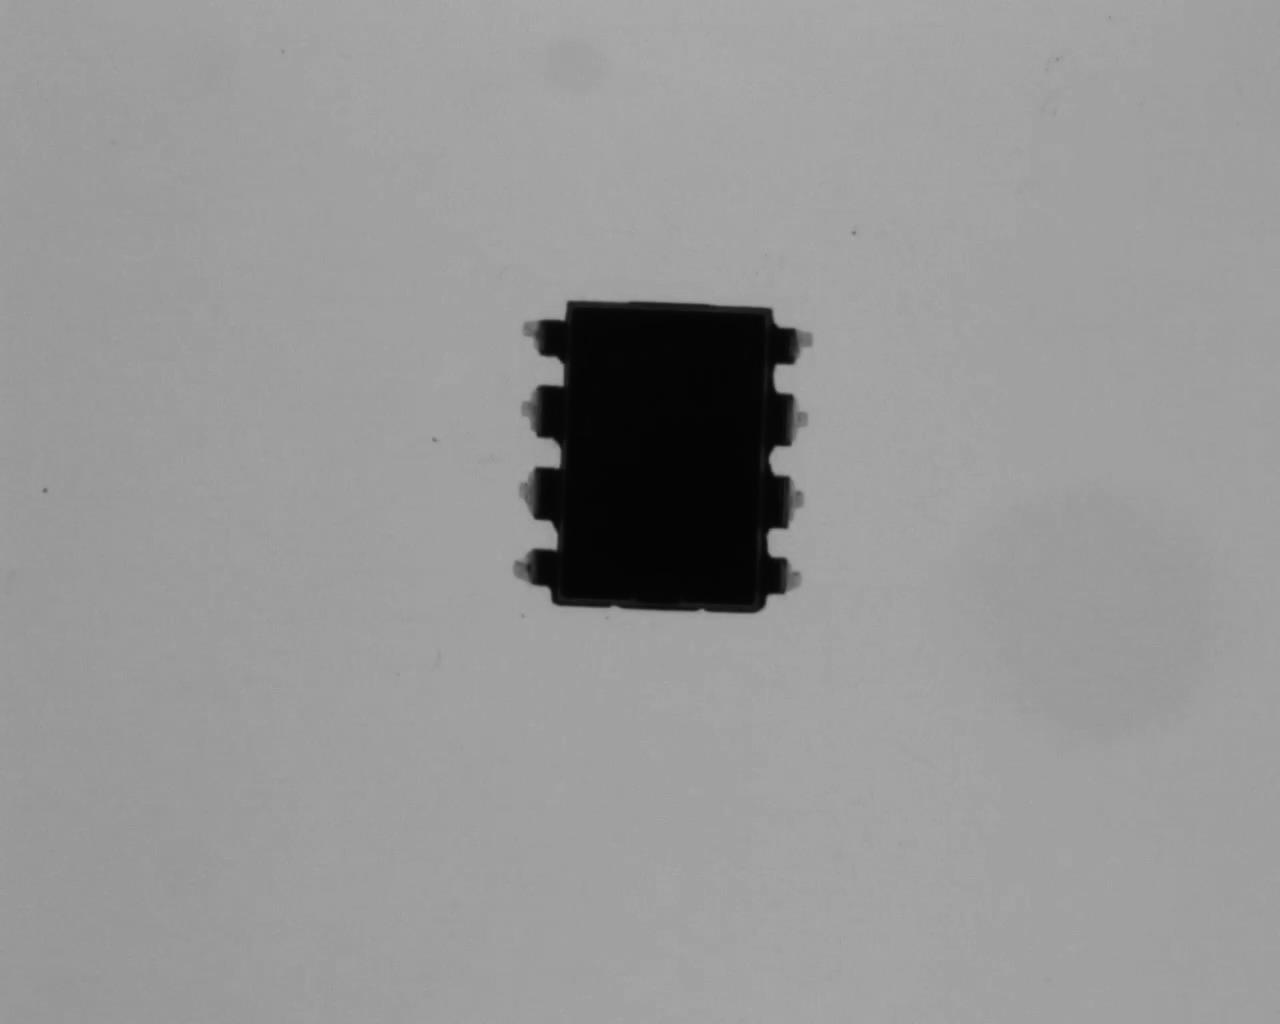Leg: (511, 462, 566, 530), (512, 380, 567, 441), (508, 311, 571, 363), (768, 388, 815, 455), (766, 471, 810, 537), (770, 318, 821, 373), (505, 544, 563, 590), (759, 552, 806, 604)
